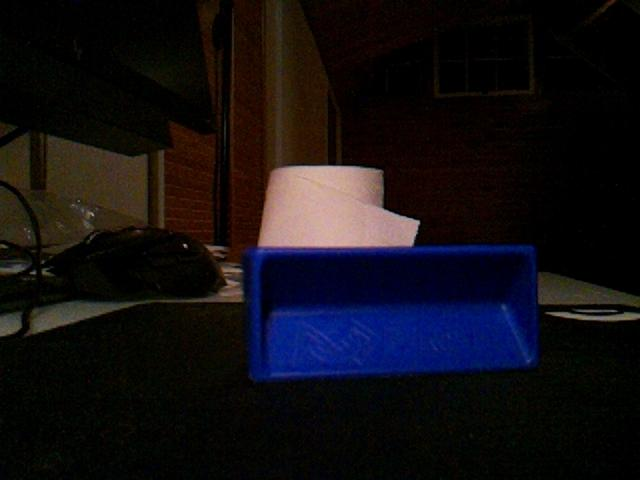blue: (241, 243, 542, 383)
